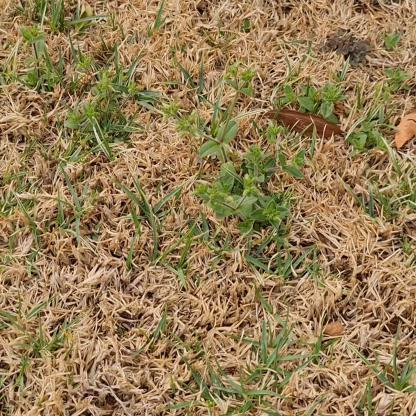Weeds: (158, 61, 305, 242), (16, 19, 141, 150), (282, 78, 381, 150)
